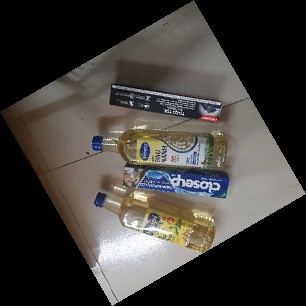CloseUp Tuyet: (120, 162, 230, 202)
Colgate Than: (107, 83, 223, 124)
Happy Soya: (93, 190, 220, 257)
Simply: (90, 127, 231, 168)
